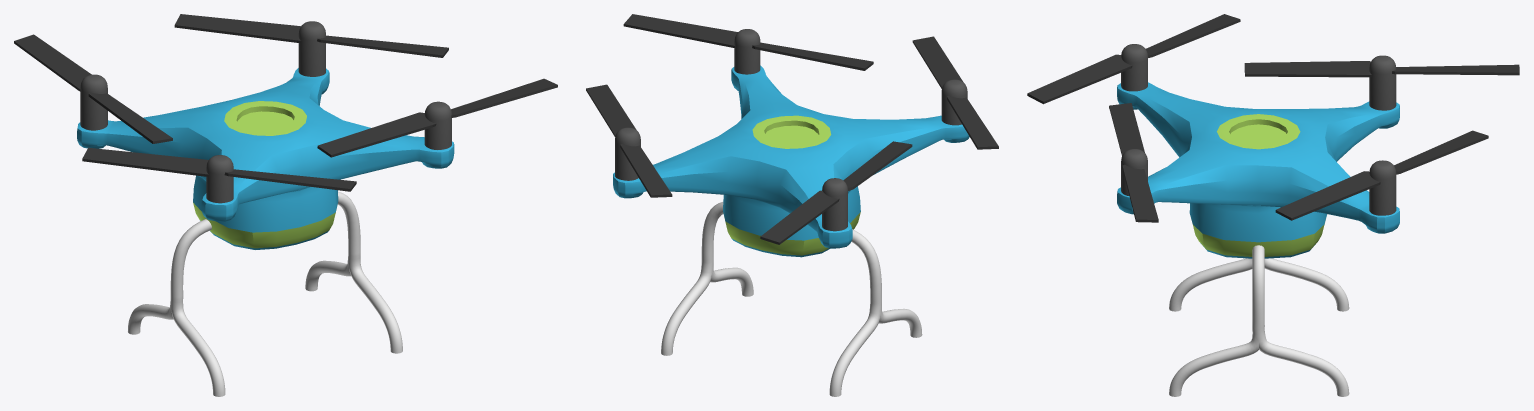
The model's file is drone.fbx.
The picture shows the model from 3 angles, left to right: view 1: azimuth 30°, elevation 25°; view 2: azimuth 150°, elevation 25°; view 3: azimuth 270°, elevation 25°; orthographic projection. The views are drawn at different scales.
Visible parts, largest first — view 1: Plane, ayaklar, pervane.003, pervane, pervane.002, pervane.001, drone.002, drone.001, drone.004, drone.003; view 2: Plane, ayaklar, pervane.002, pervane.001, pervane.003, pervane, drone.001, drone.003, drone.002, drone.004; view 3: Plane, ayaklar, pervane.001, pervane, pervane.003, pervane.002, drone.001, drone.002, drone.004, drone.003.
Part boxes in pixels (x1,y1,x2,y2): Plane: [77, 68, 454, 249]; ayaklar: [128, 191, 402, 396]; pervane.003: [82, 147, 356, 191]; pervane: [174, 14, 448, 57]; pervane.002: [317, 78, 557, 157]; pervane.001: [14, 34, 172, 143]; drone.002: [298, 21, 325, 76]; drone.001: [80, 74, 107, 130]; drone.004: [206, 155, 233, 203]; drone.003: [424, 101, 451, 149]; Plane: [613, 65, 969, 257]; ayaklar: [661, 202, 922, 396]; pervane.002: [623, 14, 873, 70]; pervane.001: [760, 141, 912, 244]; pervane.003: [912, 36, 998, 149]; pervane: [586, 84, 672, 197]; drone.001: [822, 178, 847, 231]; drone.003: [734, 29, 760, 74]; drone.002: [615, 127, 640, 180]; drone.004: [941, 79, 967, 125]; Plane: [1117, 82, 1399, 258]; ayaklar: [1169, 245, 1349, 396]; pervane.001: [1244, 61, 1519, 77]; pervane: [1275, 130, 1488, 220]; pervane.003: [1027, 14, 1240, 104]; pervane.002: [1109, 103, 1158, 222]; drone.001: [1369, 55, 1396, 110]; drone.002: [1369, 160, 1396, 215]; drone.004: [1121, 44, 1147, 91]; drone.003: [1121, 149, 1147, 195].
Size of the model in its own units: 696 by 396 by 699.
